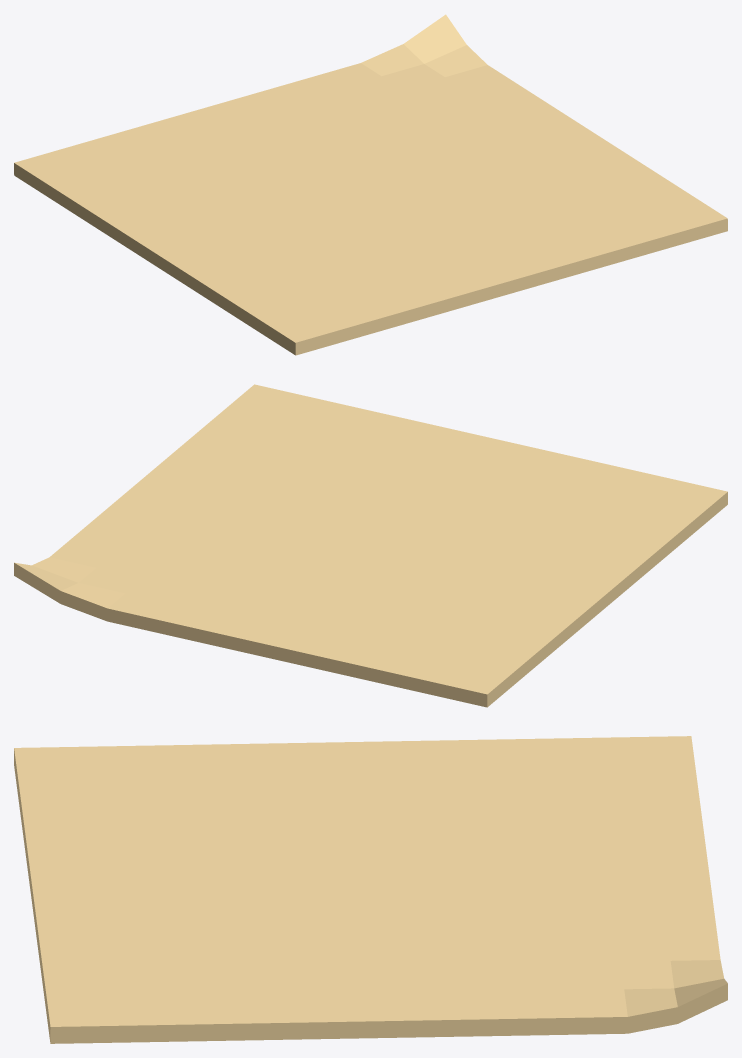
File: Paper.fbx
The picture shows the model from 3 angles, top to bottom: view 1: azimuth 30°, elevation 25°; view 2: azimuth 150°, elevation 25°; view 3: azimuth 270°, elevation 25°; orthographic projection. The views are drawn at different scales.
Parts seen in each view (by area): view 1: Paper; view 2: Paper; view 3: Paper.
Boxes of the visible parts, box(x1,y1,x2,y2) form: Paper: box(14, 14, 727, 355); Paper: box(14, 384, 727, 707); Paper: box(14, 736, 727, 1043).
Bounding box in the file's own units: 40.23 × 40.23 × 3.45.
